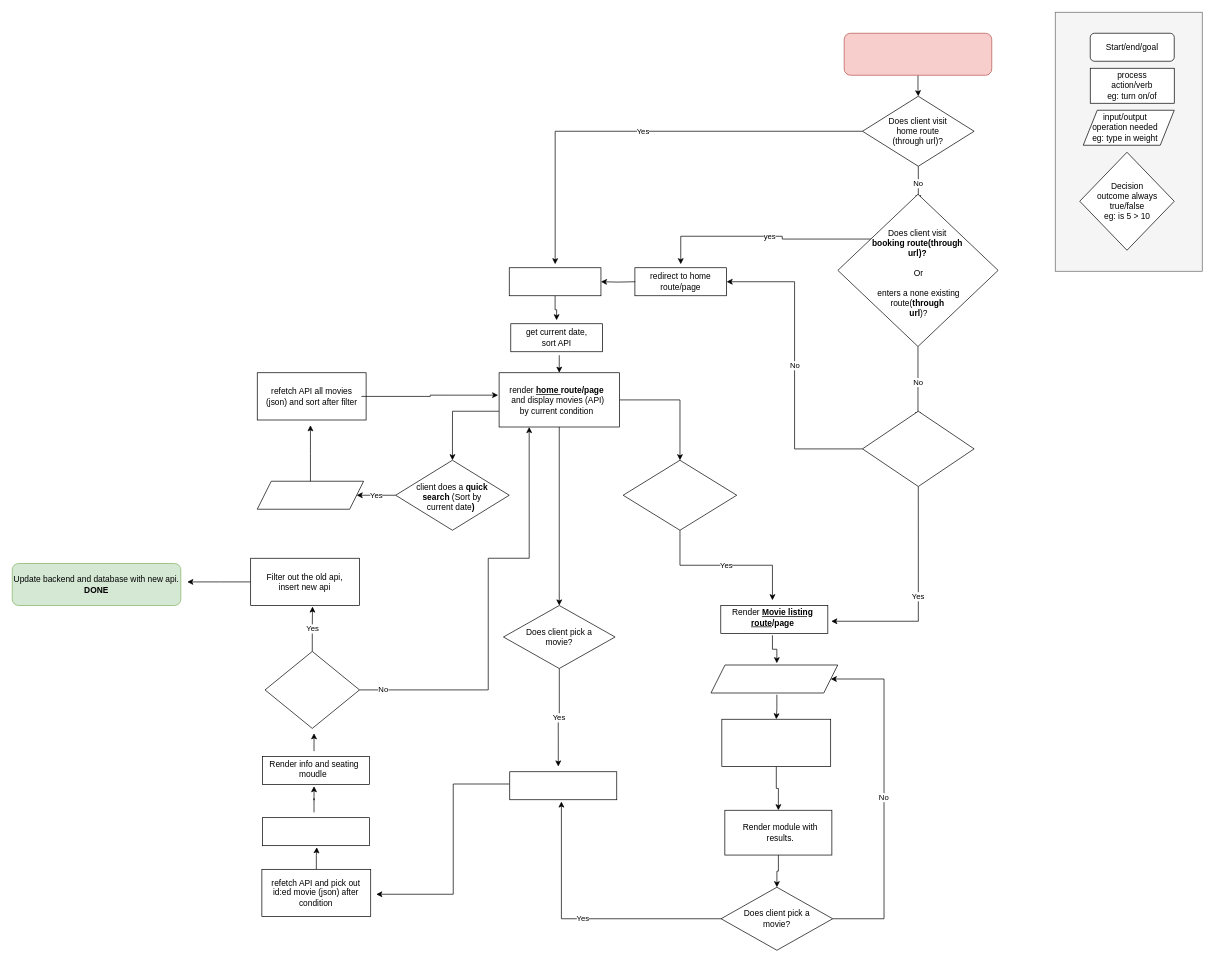
Some shapes in this 1215 by 963 pixel diagram are drawn without their labels. The box of each missing label's shape, as (x1, y1, x2, y2) in pixels:
client (visit website) START: (844, 33, 992, 75)
client does an advanced search (sort by all api): (622, 460, 737, 530)
Client fullfill booking?: (264, 651, 360, 728)
Does client visit list route?(through url): (862, 411, 974, 486)
fetch API all movies (json): (509, 267, 601, 296)
let client filter by word only: (257, 481, 364, 509)
Let client search a date and sort by word: (710, 664, 838, 693)
refetch API all movies (json) and sort after condition: (721, 719, 831, 766)
Render booking route /page: (262, 817, 369, 846)
Save the API ID of movie: (509, 771, 617, 800)
